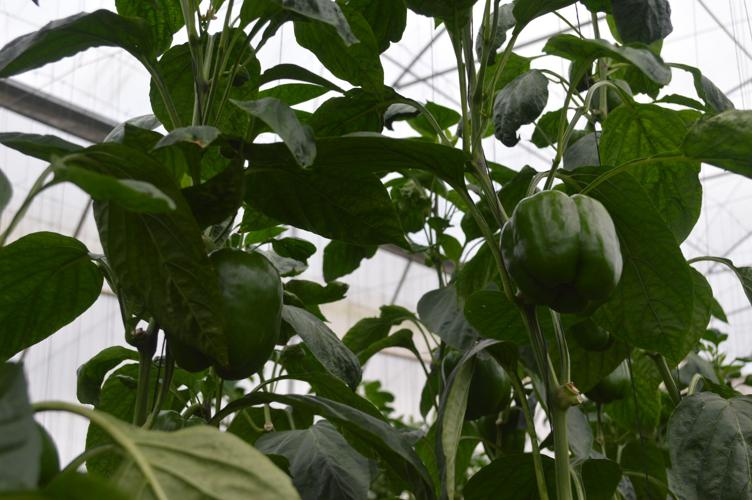BellPepper: (493, 180, 628, 321), (175, 239, 293, 378), (428, 345, 518, 419), (574, 343, 641, 405)
